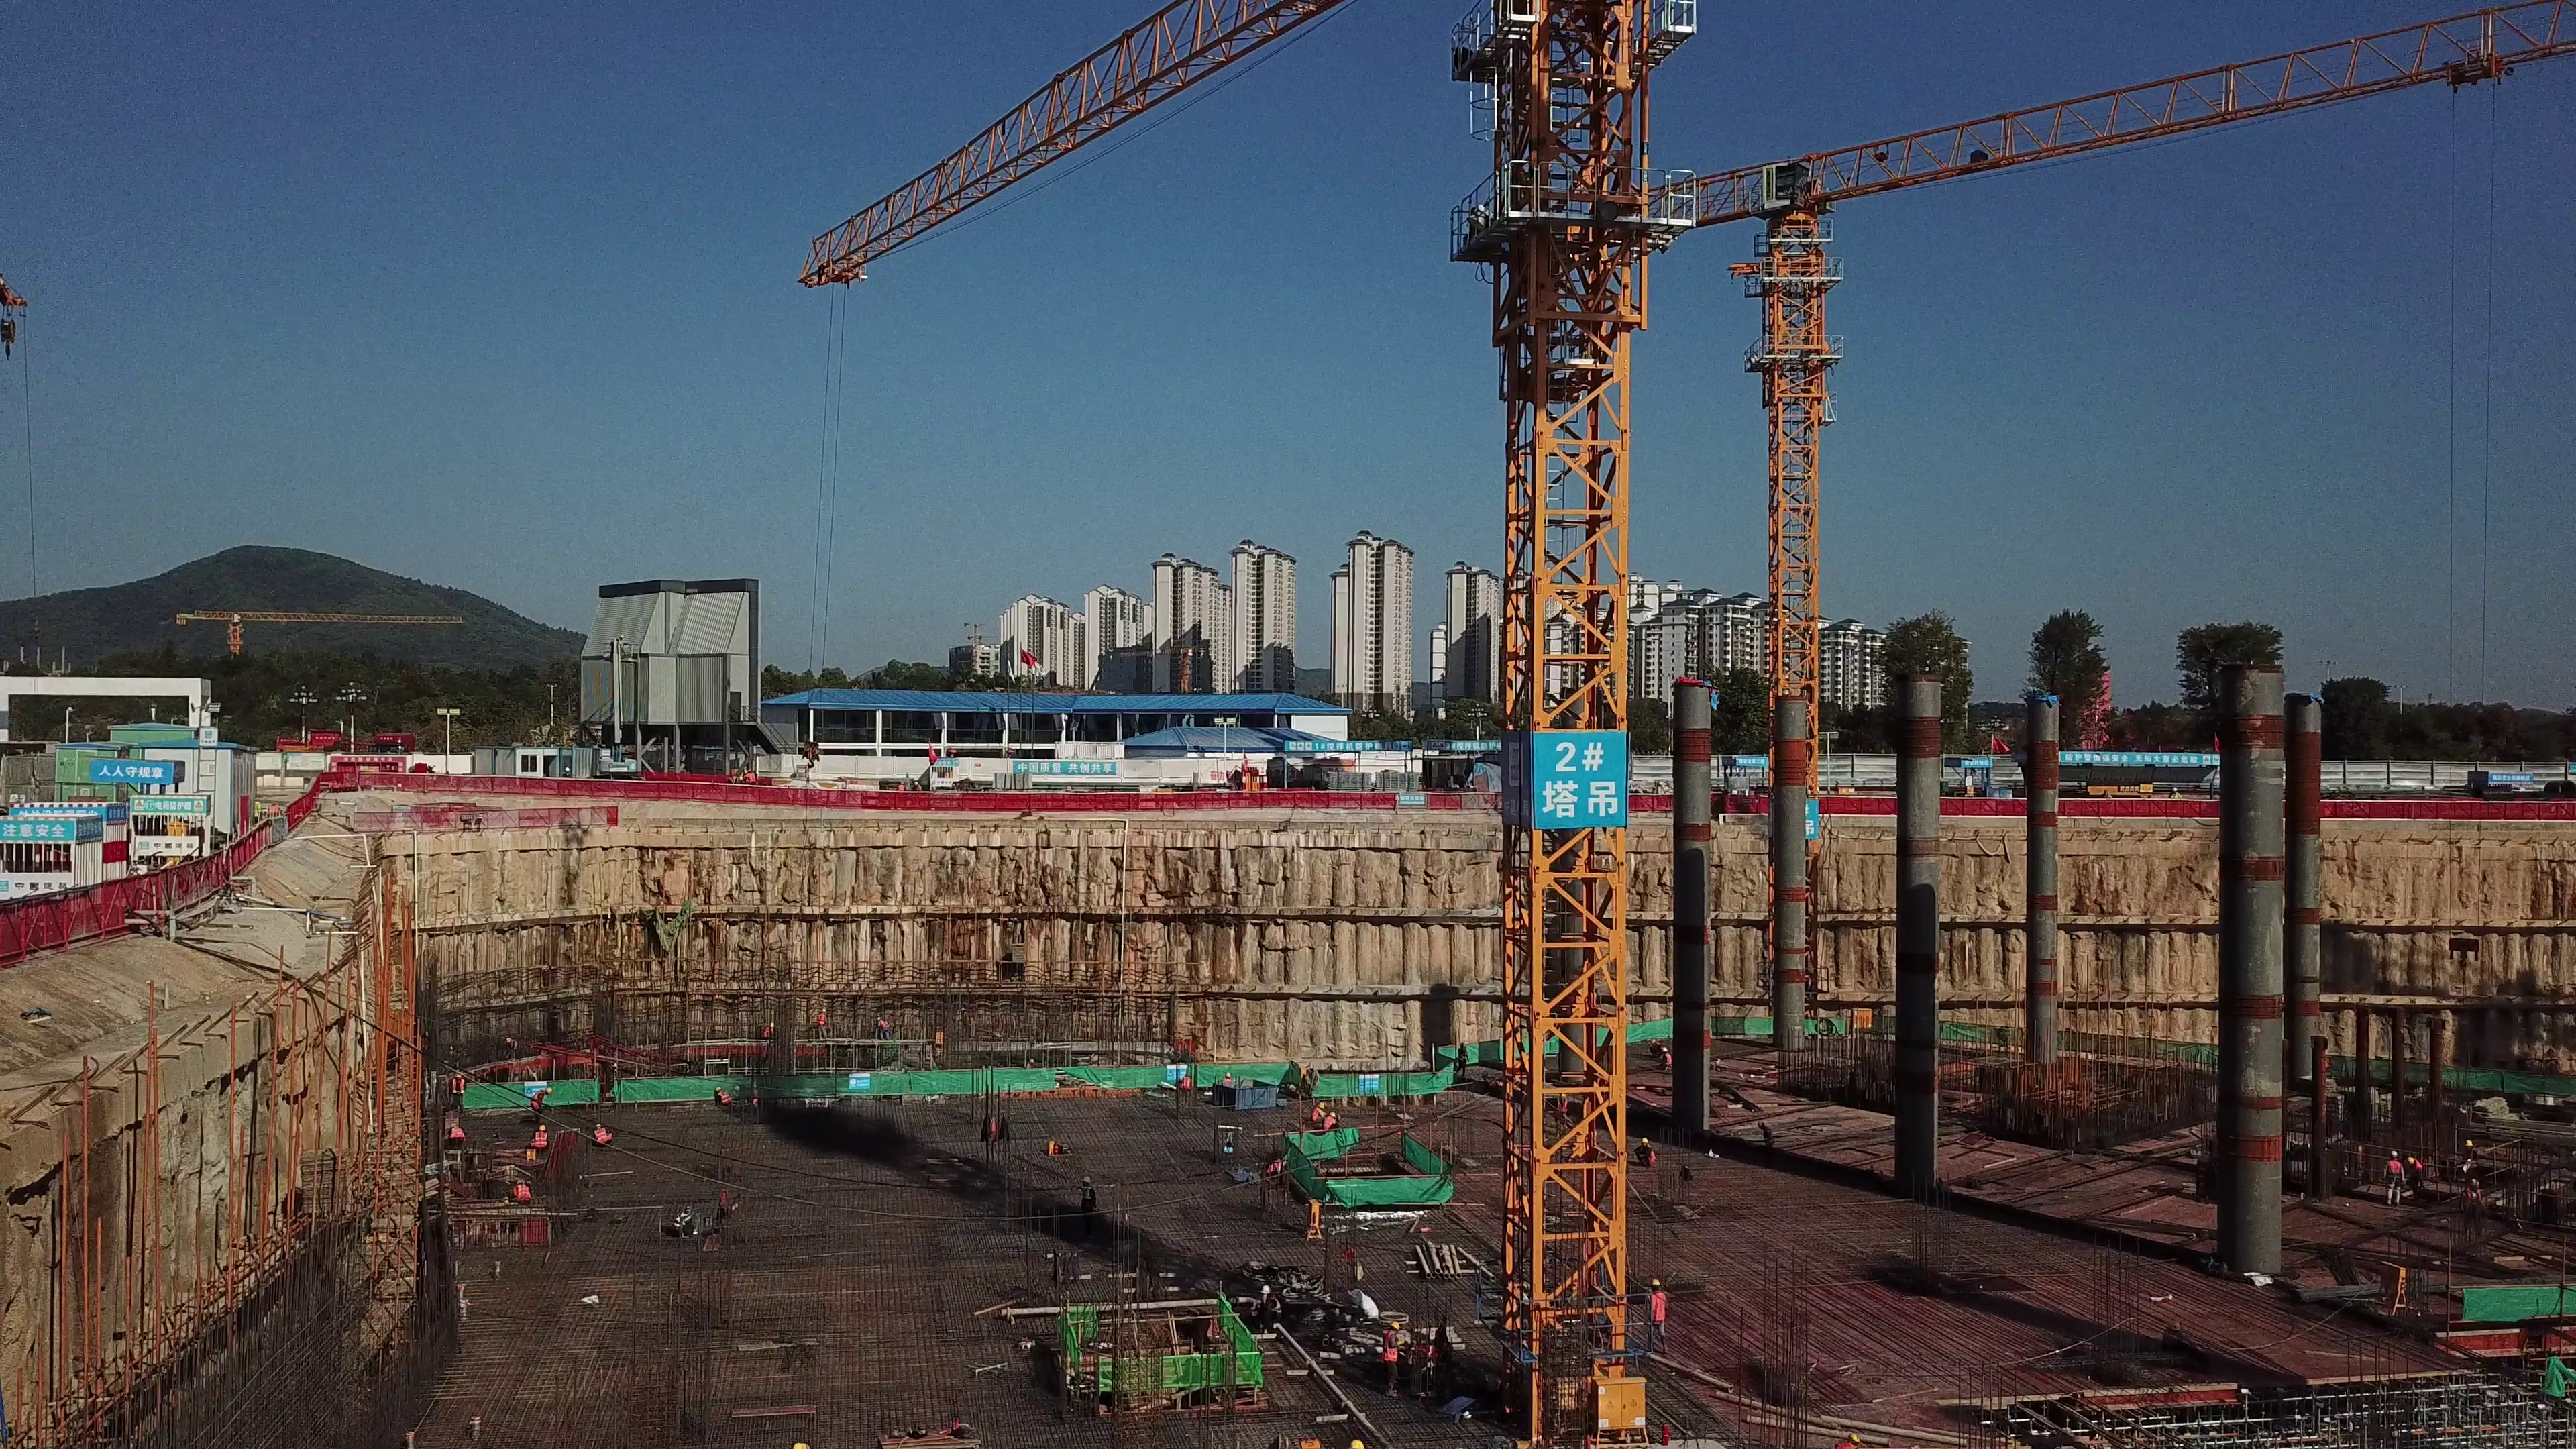ebox: (1598, 1377, 1654, 1448), (2373, 1258, 2412, 1313), (1299, 1199, 1326, 1242)
fence: (3, 890, 154, 969), (154, 857, 258, 913), (2320, 800, 2573, 822), (353, 810, 623, 830), (379, 777, 599, 800), (989, 791, 1248, 810), (601, 780, 800, 805), (803, 786, 989, 810), (2059, 799, 2216, 818), (1248, 790, 1395, 809), (1941, 798, 2026, 816), (1823, 794, 1898, 814), (1423, 796, 1465, 811), (1629, 796, 1671, 810)
helmet: (1389, 1320, 1401, 1332), (1639, 1136, 1651, 1146), (1649, 1279, 1662, 1289), (2469, 1179, 2480, 1189), (1260, 1284, 1273, 1293), (545, 1086, 554, 1096), (2389, 1148, 2399, 1157), (2465, 1138, 2473, 1148), (1081, 1176, 1093, 1184), (538, 1124, 548, 1130), (455, 1072, 464, 1079), (1317, 1101, 1326, 1108), (1328, 1111, 1338, 1118), (1558, 1091, 1568, 1098), (715, 1085, 722, 1091), (1226, 1071, 1232, 1077), (1663, 1046, 1670, 1053), (1459, 1041, 1466, 1047), (2408, 1156, 2416, 1163), (595, 1121, 602, 1127), (769, 1021, 775, 1027), (820, 1007, 826, 1013), (1651, 1038, 1657, 1043), (876, 1015, 883, 1020)
hook: (2445, 932, 2483, 975), (802, 737, 823, 770)
person: (1377, 1316, 1409, 1402), (1642, 1271, 1674, 1358), (441, 1070, 476, 1114), (1078, 1173, 1104, 1228), (1257, 1277, 1285, 1333), (2383, 1146, 2406, 1207), (2406, 1152, 2431, 1204), (524, 1086, 558, 1125), (439, 1120, 476, 1153), (508, 1172, 540, 1210), (2461, 1177, 2483, 1230), (1632, 1134, 1662, 1173), (527, 1123, 554, 1157), (591, 1118, 619, 1148), (708, 1083, 737, 1110), (1455, 1040, 1474, 1081), (2462, 1136, 2481, 1177), (1267, 1155, 1288, 1183), (1321, 1110, 1344, 1134), (814, 1007, 832, 1039), (1557, 1091, 1571, 1130), (873, 1014, 894, 1040), (1661, 1044, 1675, 1075), (1311, 1099, 1329, 1123), (1647, 1038, 1666, 1059), (761, 1021, 777, 1040), (1222, 1068, 1237, 1085)
slogan: (2060, 750, 2210, 765), (1, 818, 76, 841), (1013, 761, 1118, 777), (1286, 739, 1383, 753), (95, 764, 169, 782), (1449, 740, 1497, 751), (1737, 756, 1767, 767), (1962, 757, 1991, 770)
vest: (1646, 1291, 1668, 1324), (1383, 1332, 1399, 1362), (514, 1183, 532, 1201), (531, 1131, 549, 1148), (592, 1128, 612, 1142), (530, 1091, 544, 1110), (449, 1128, 467, 1138), (451, 1079, 464, 1094), (718, 1091, 733, 1104), (1322, 1118, 1335, 1131), (816, 1013, 828, 1024), (1312, 1108, 1320, 1122)
